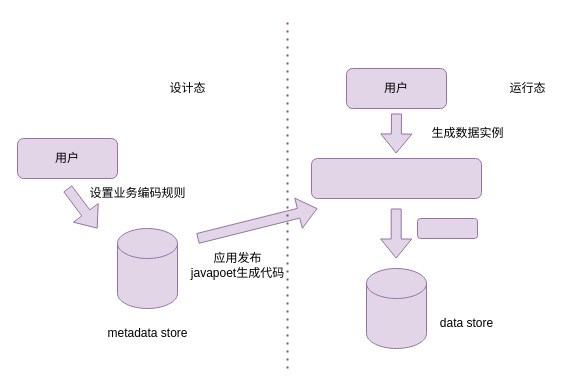
Some shapes in this 575 by 387 pixel diagram are drawn without their labels. Each missing label, with the centre of its shape:
"Server(@Businesscode)" belongs at pixel 396 178.
"监听器" belongs at pixel 447 228.
